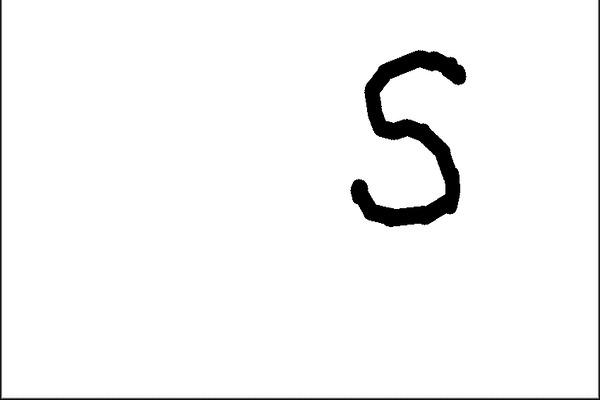S: (346, 46, 472, 227)
